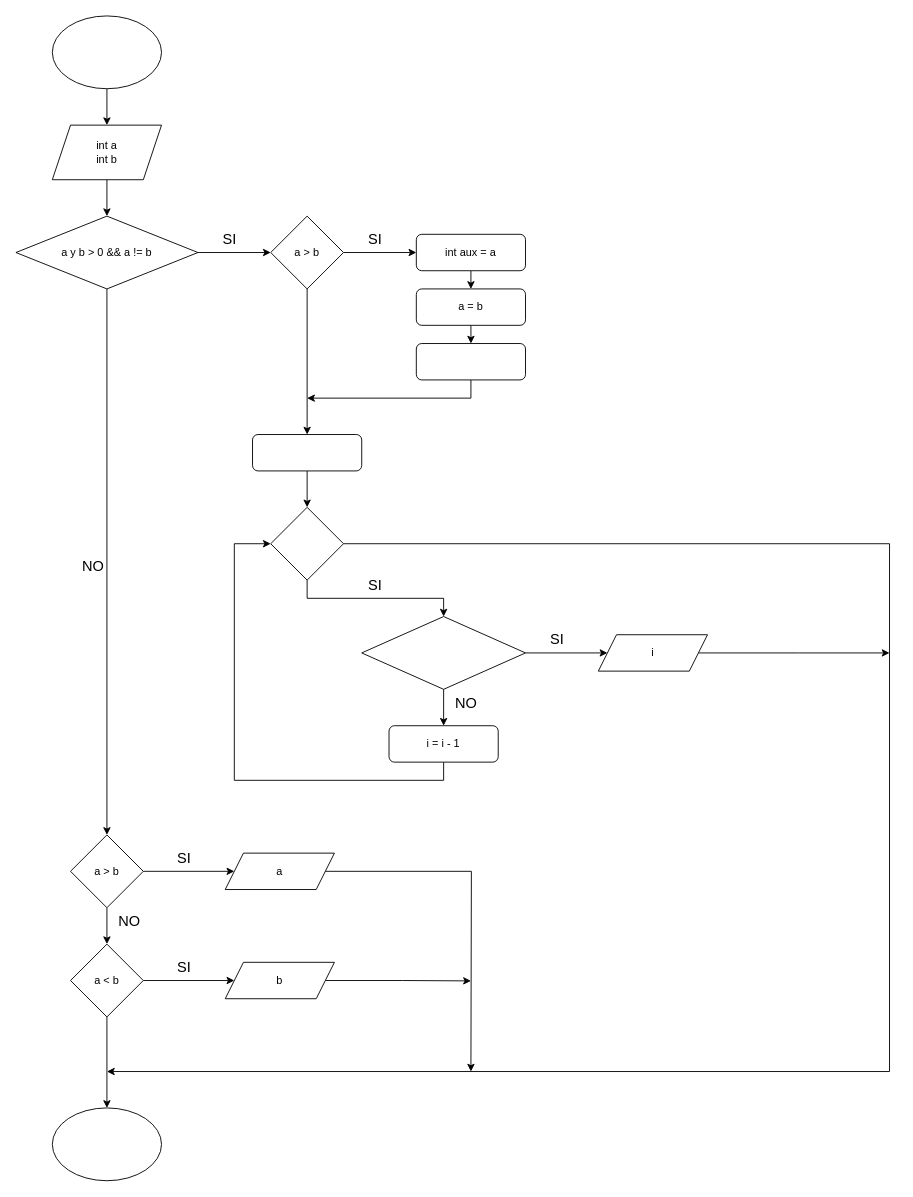
Some shapes in this 913 by 1197 pixel diagram are drawn without their labels. Each missing label, with the centre of its shape:
a y b % i = 0: point 443,652
b = aux: point 470,361
FIN: point 106,1144
i >= 1: point 307,543
INICIO: point 106,52
int i = a: point 307,452
